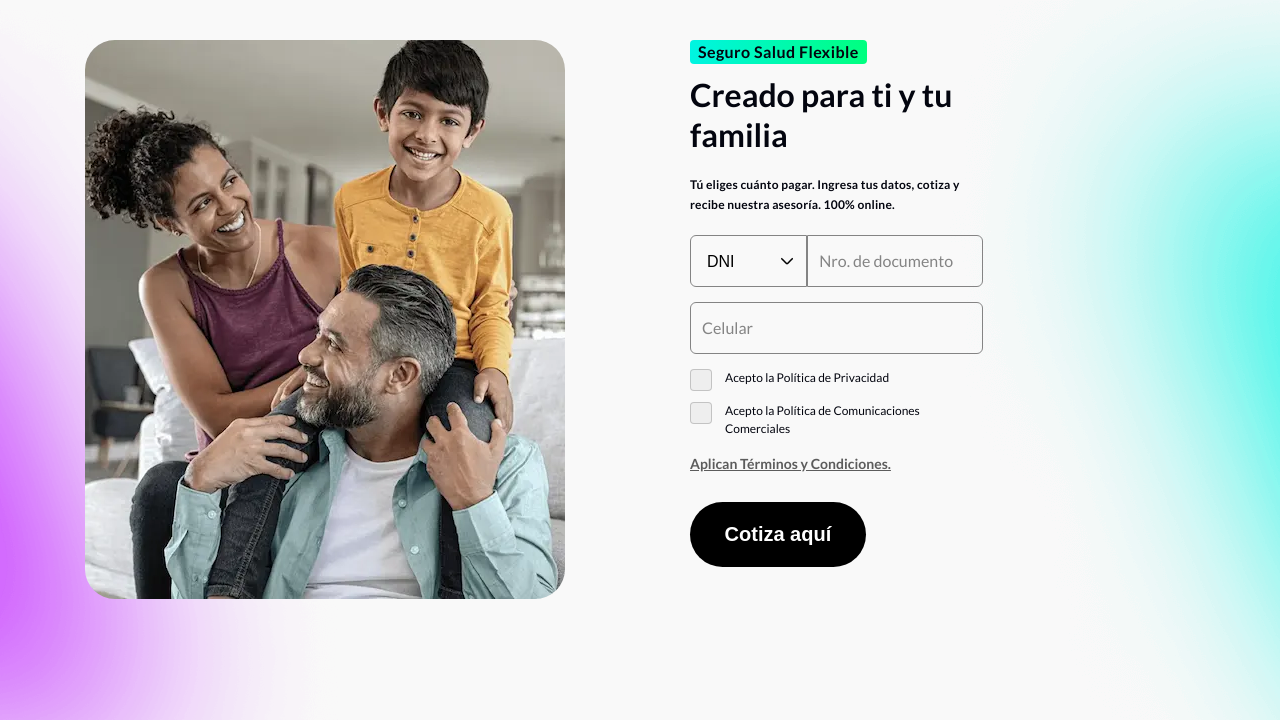
Test: RegistrationForm › Validación del número de documento › debe mostrar error si DNI tiene menos de 8 dígitos al submit
In the field labelled "Nro. de documento": (895, 261) [807,235,983,287], type "1234567"
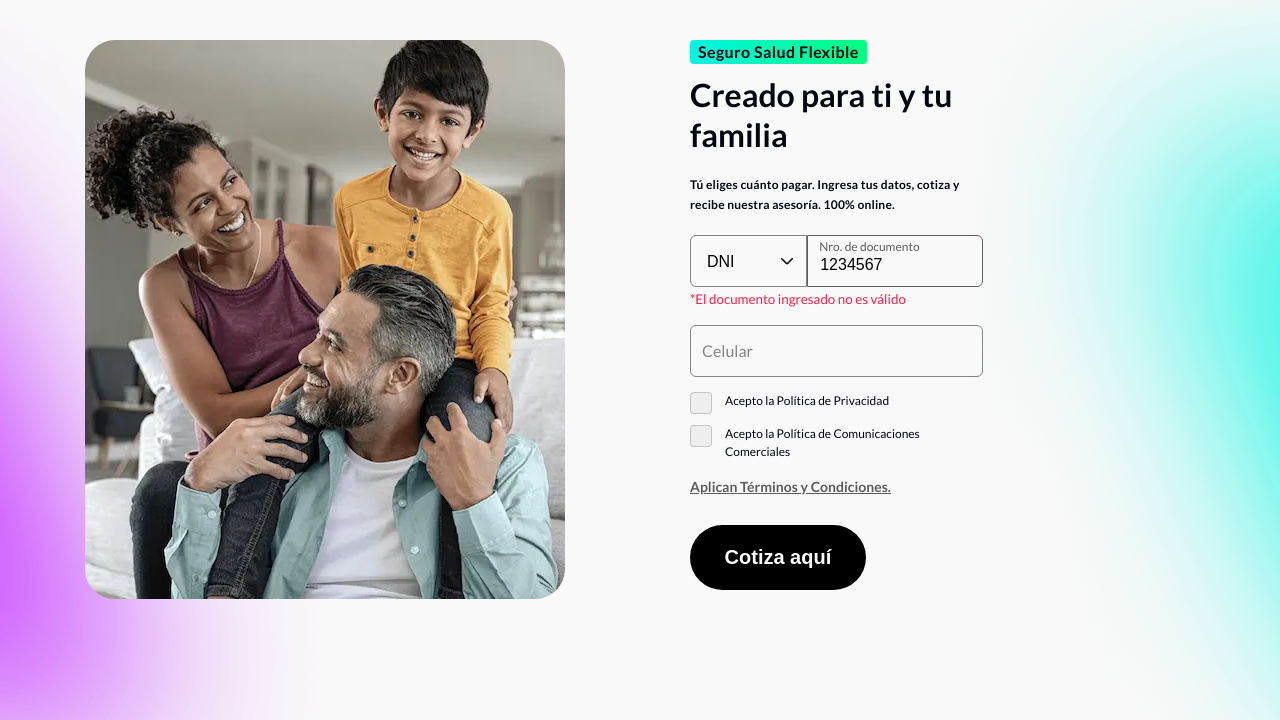
In the field labelled "Celular": (836, 351) [690,325,983,377], type "987654321"
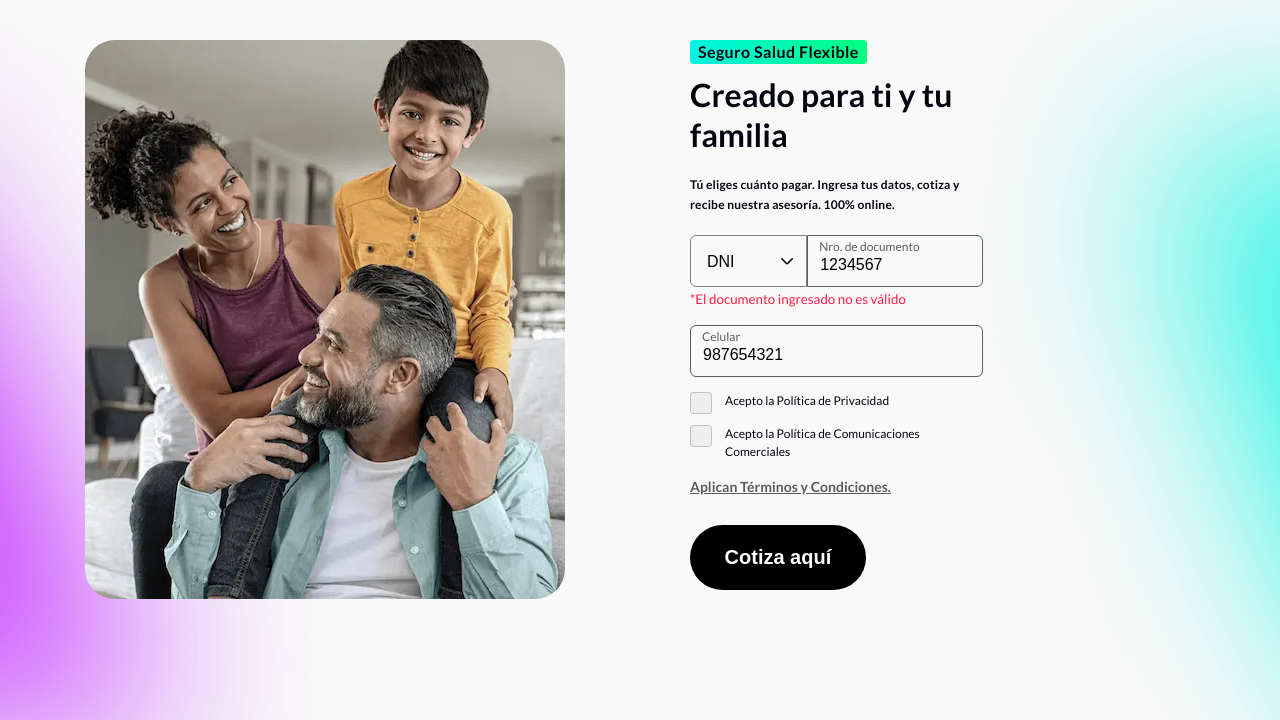
Click the checkbox labelled "Acepto la Política de Privacidad": click(790, 403) [690,392,889,414]
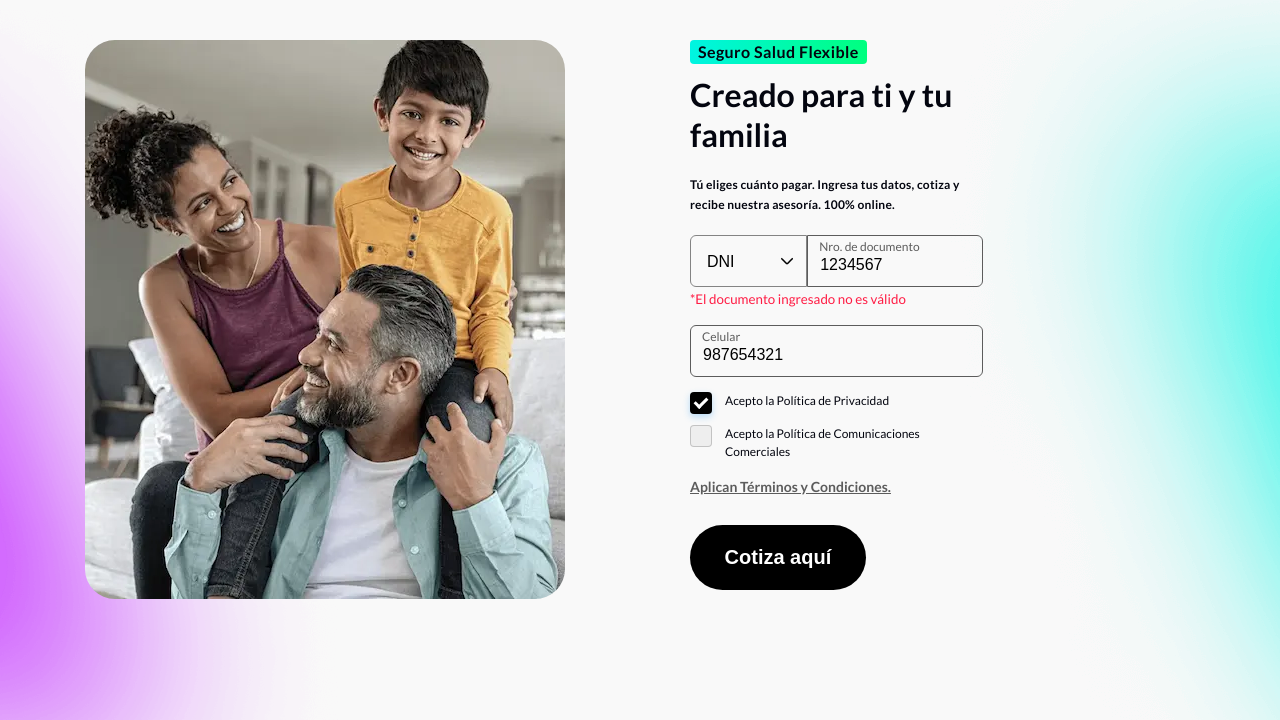
Click the checkbox labelled "Acepto la Política de Comunicaciones Comerciales": click(805, 442) [690,425,920,459]
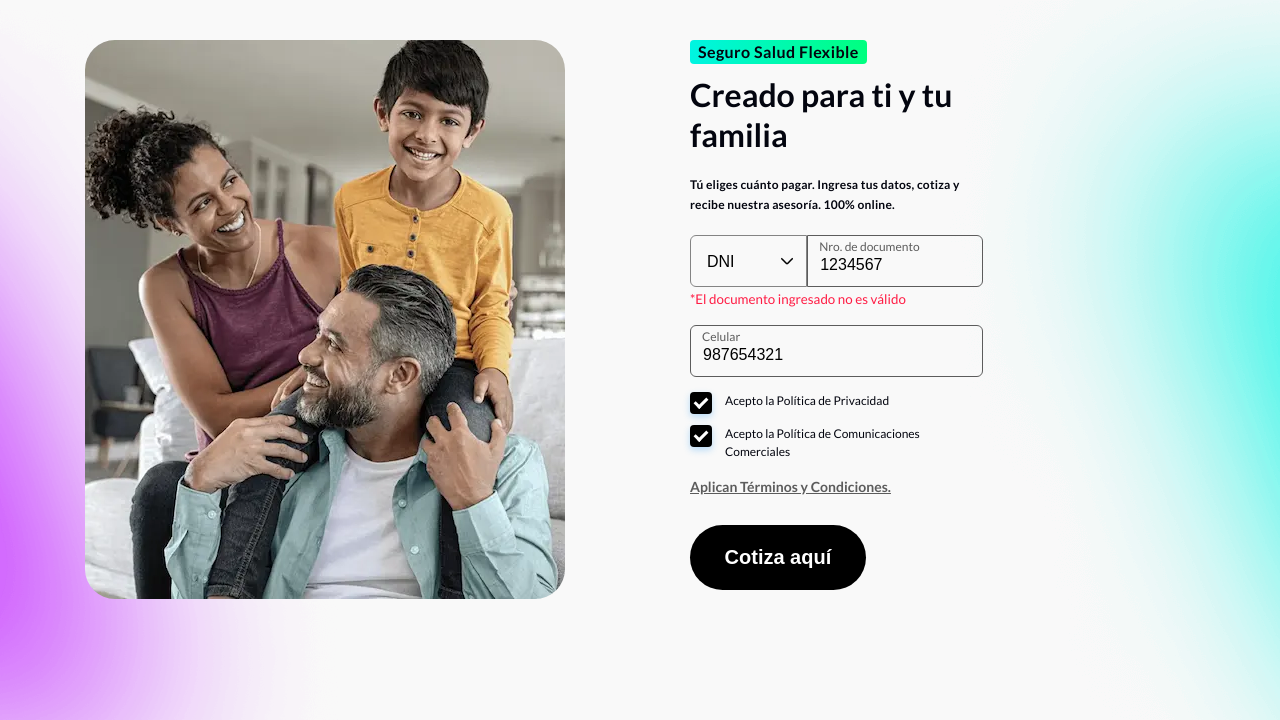
Click the button "Cotiza aquí": click(778, 557) [690,525,866,590]
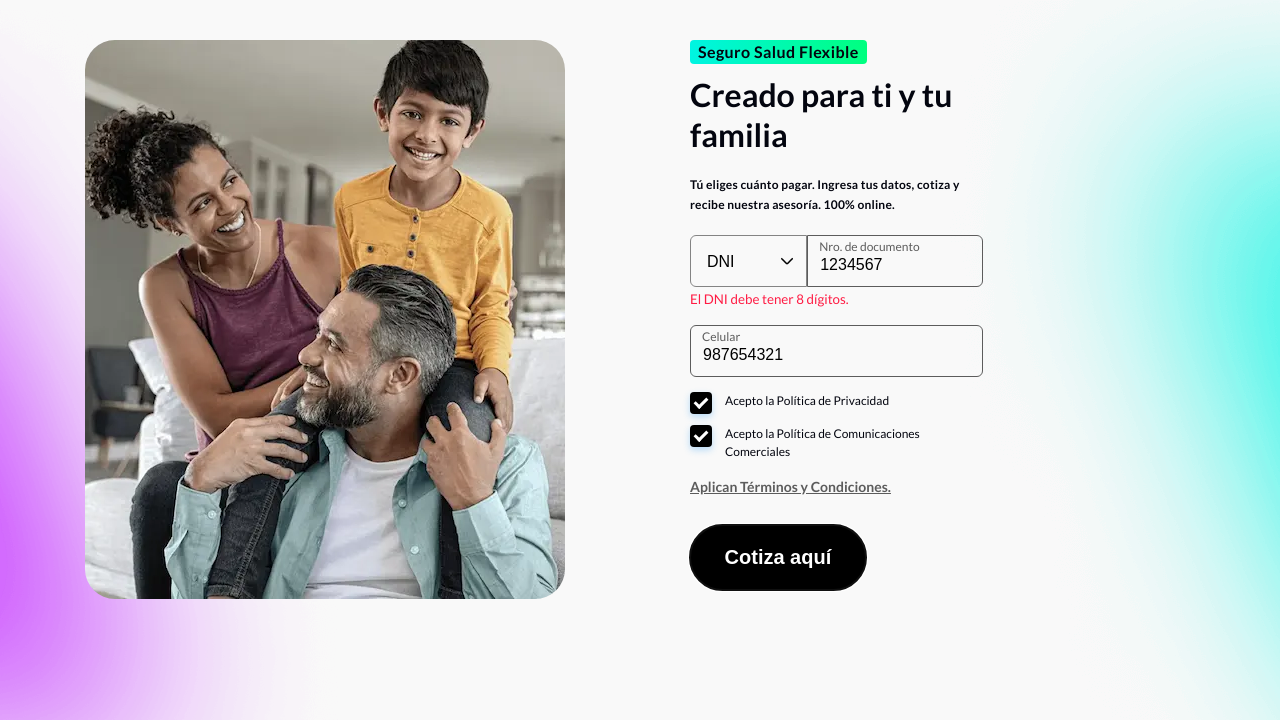
Expected: the text "El DNI debe tener 8 dígitos." is shown, [690,291,849,307]
